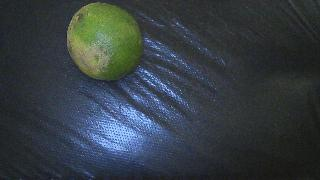DESECHO: (67, 2, 143, 81)
